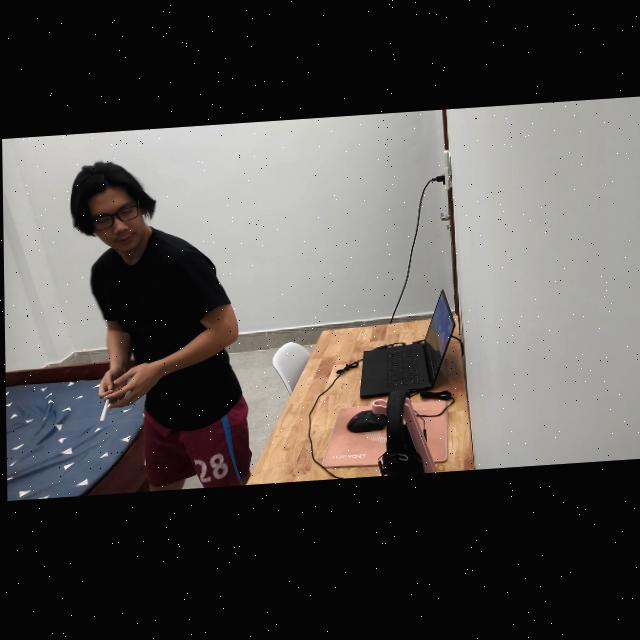cigarette: (98, 401, 108, 423)
